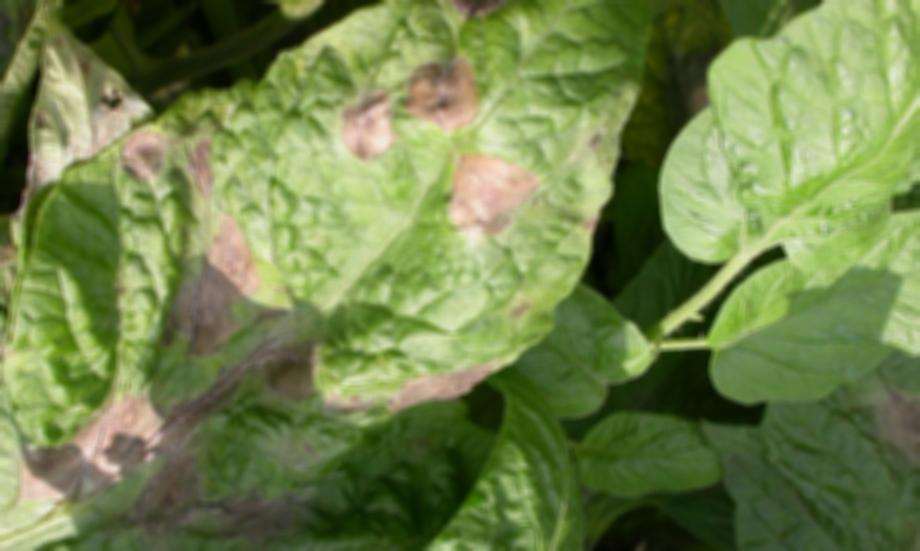Tomato leaf late blight: (0, 0, 645, 551), (719, 344, 920, 551)
